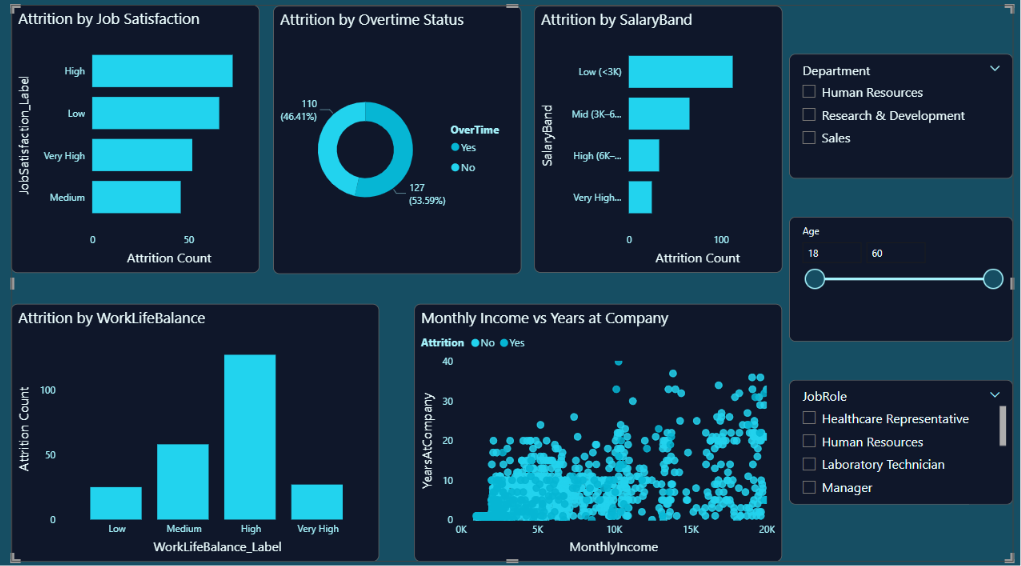

What the dashboard file says about the page in this screenshot:
{"tool":"powerbi","page":{"name":"Employee Deep Dive","canvas":[1280,720],"ordinal":1},"visuals":[{"type":"barChart","title":"Attrition by Job Satisfaction","fields":{"Category":["HR_Data.JobSatisfaction_Label"],"Y":["_Measures.Attrition Count"]},"box":[17.5,10,310,335],"z":0,"group":"g1"},{"type":"donutChart","title":"Attrition by Overtime Status","fields":{"Category":["HR_Data.OverTime"],"Y":["_Measures.Attrition Count"]},"box":[344.4,11.2,310,335],"z":1000,"group":"g1"},{"type":"clusteredBarChart","title":"Attrition  by SalaryBand","fields":{"Category":["HR_Data.SalaryBand"],"Y":["_Measures.Attrition Count"]},"box":[671.3,11.2,310,333.8],"z":2000,"group":"g1"},{"type":"clusteredColumnChart","title":"Attrition  by WorkLifeBalance","fields":{"Category":["HR_Data.WorkLifeBalance_Label"],"Y":["_Measures.Attrition Count"]},"box":[17.5,383.8,460,322.5],"z":3000,"group":"g1"},{"type":"scatterChart","title":"Monthly Income vs Years at Company","fields":{"Series":["HR_Data.Attrition"],"X":["HR_Data.MonthlyIncome"],"Y":["HR_Data.YearsAtCompany"]},"box":[521.3,383.8,460,322.5],"z":4000,"group":"g1"},{"type":"slicer","fields":{"Values":["HR_Data.Department"]},"box":[990,71.2,280,156.2],"z":5000,"group":"g1"},{"type":"slicer","fields":{"Values":["HR_Data.JobRole"]},"box":[990,478.8,280,156],"z":6000,"group":"g1"},{"type":"slicer","fields":{"Values":["HR_Data.Age"]},"box":[990,275.1,280,156],"z":7000,"group":"g1"},{"type":"group","id":"g1","title":"Group 1","box":[17.5,10,1252.5,696.2],"z":7001}]}

Visuals, with their boxes in screenshot pixels (x1, y1, x2, y2), scaled from the page's 1280x720 canvas onto the 1021x566 screenshot:
"Attrition by Job Satisfaction" barChart: select_region(14, 8, 261, 271)
"Attrition by Overtime Status" donutChart: select_region(275, 9, 522, 272)
"Attrition  by SalaryBand" clusteredBarChart: select_region(535, 9, 783, 271)
"Attrition  by WorkLifeBalance" clusteredColumnChart: select_region(14, 302, 381, 555)
"Monthly Income vs Years at Company" scatterChart: select_region(416, 302, 783, 555)
slicer - HR_Data.Department: select_region(790, 56, 1013, 179)
slicer - HR_Data.JobRole: select_region(790, 376, 1013, 499)
slicer - HR_Data.Age: select_region(790, 216, 1013, 339)
"Group 1" group: select_region(14, 8, 1013, 555)
